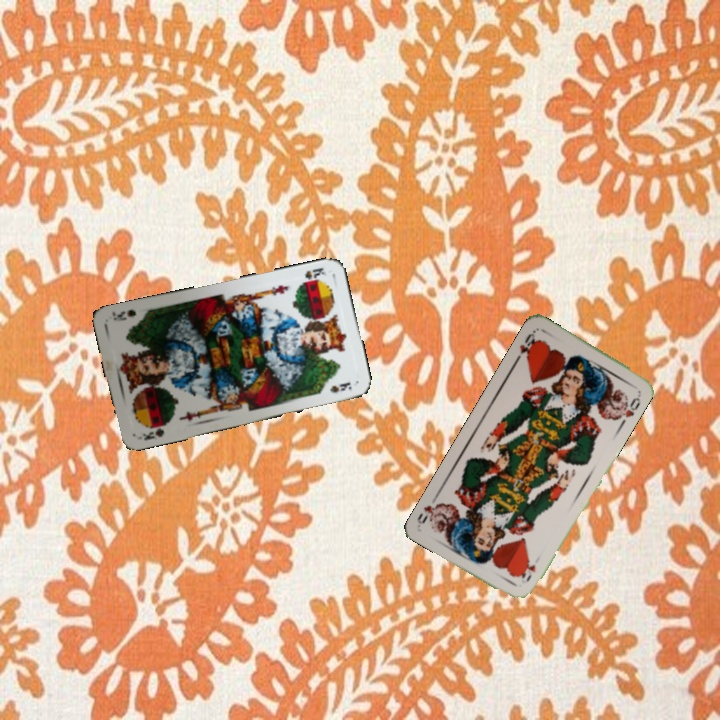HO: (511, 327, 541, 364), (518, 560, 539, 584)
SK: (133, 424, 167, 443), (301, 263, 329, 282)
